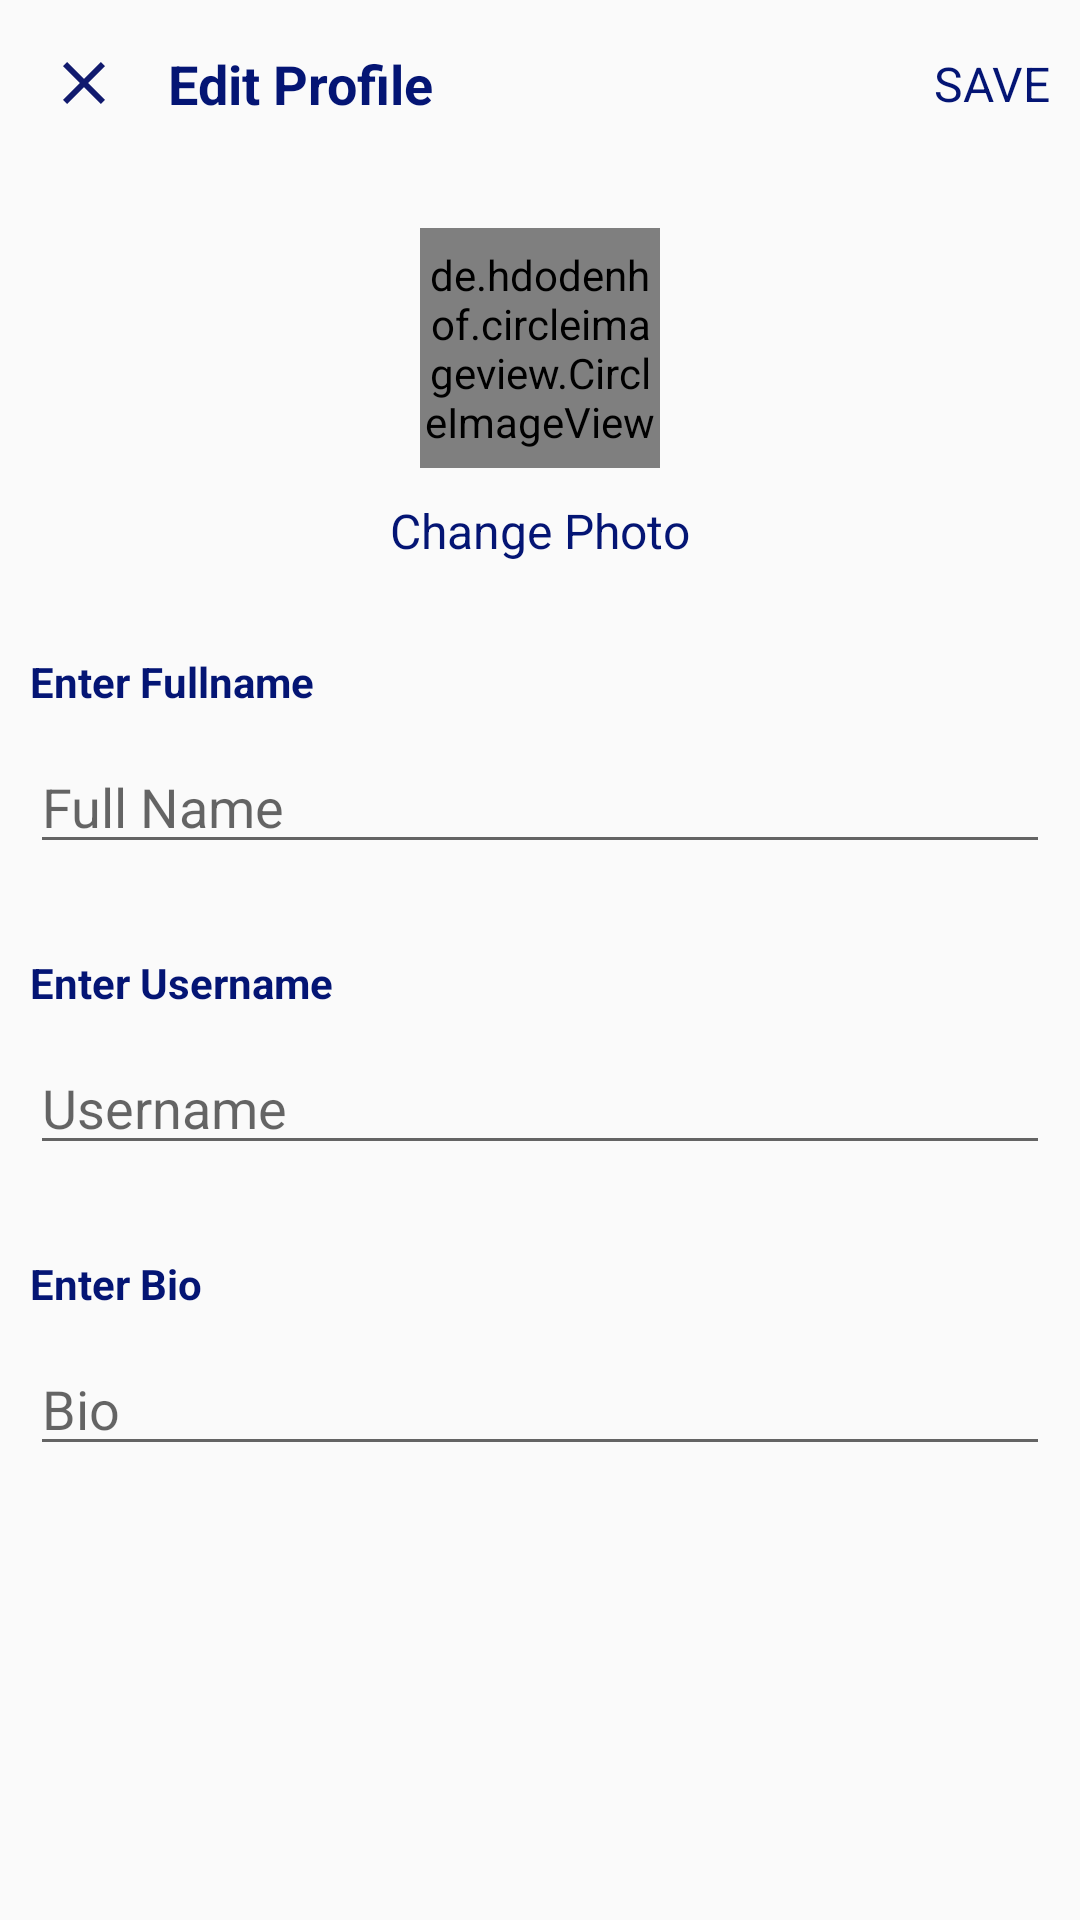

Point at icon controls on the screen. Image size 1080 × 1920, points as point (x, y).
close: point (84, 83)
